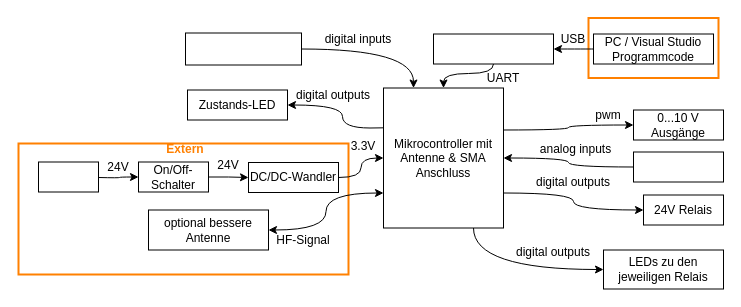
The diagram is 741 pixels wide and 307 high, and some of its shapes have lost their labels. The centre of each missing label's shape, as x and y in pixels:
"0...10 V Eingänge" goes at point (678, 166).
"Debugging-Taster" goes at point (243, 48).
"Netzteil" goes at point (68, 176).
"USB/UART-Wandler" goes at point (493, 48).
